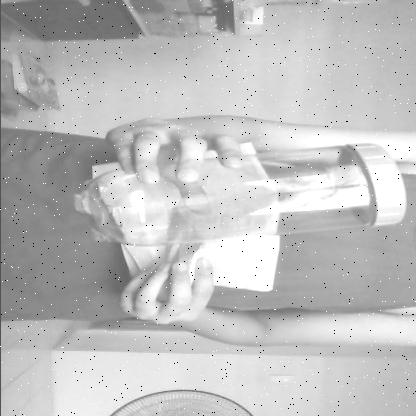Plastic Bottle: (69, 144, 407, 246)
